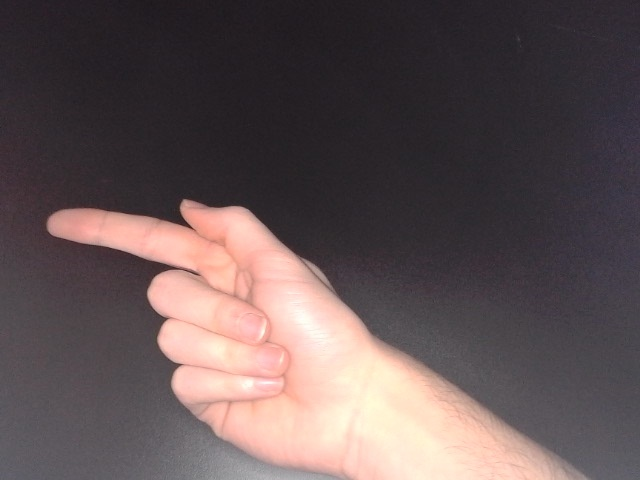g: (42, 196, 393, 480)
